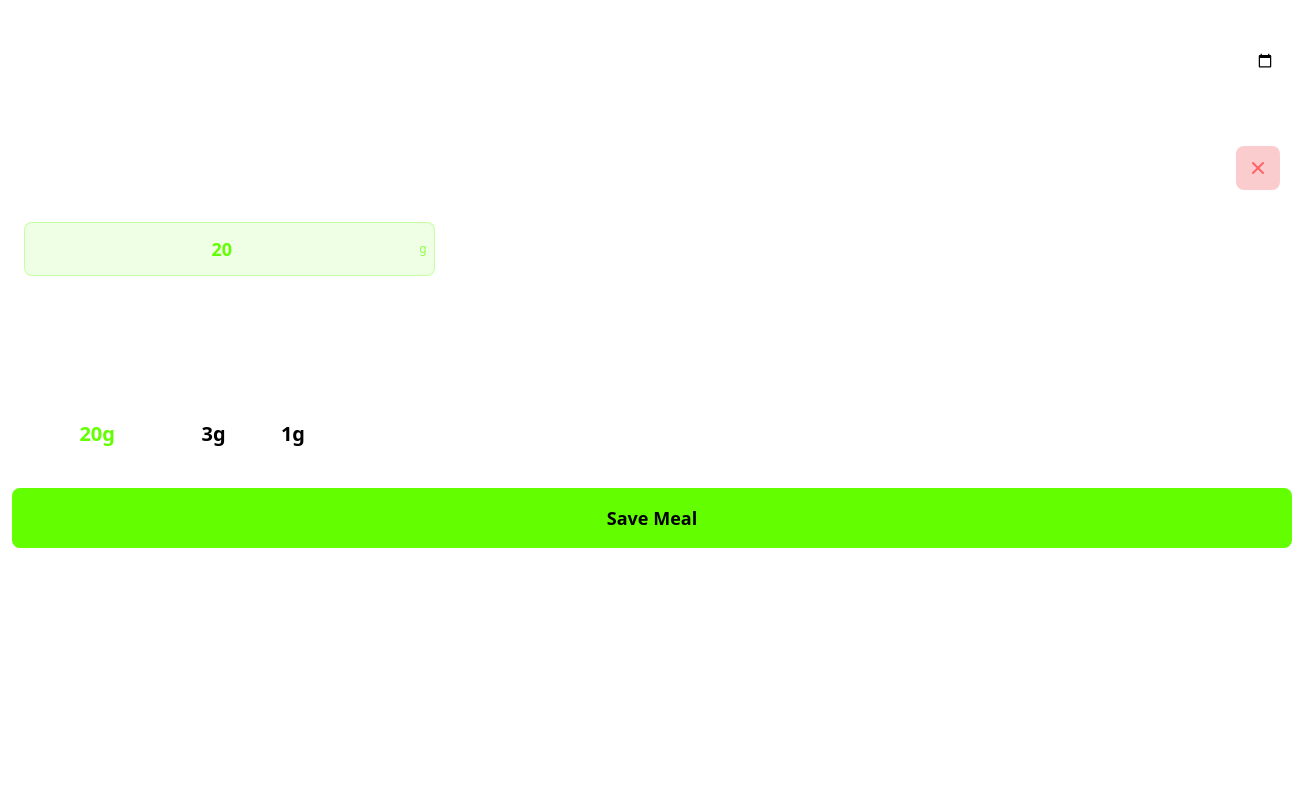
MealEditor › error toast on save failure › shows error toast with Irish English text on save failure
Step 1. Click the button "Save Meal" → (652, 518), box [12,488,1292,548]
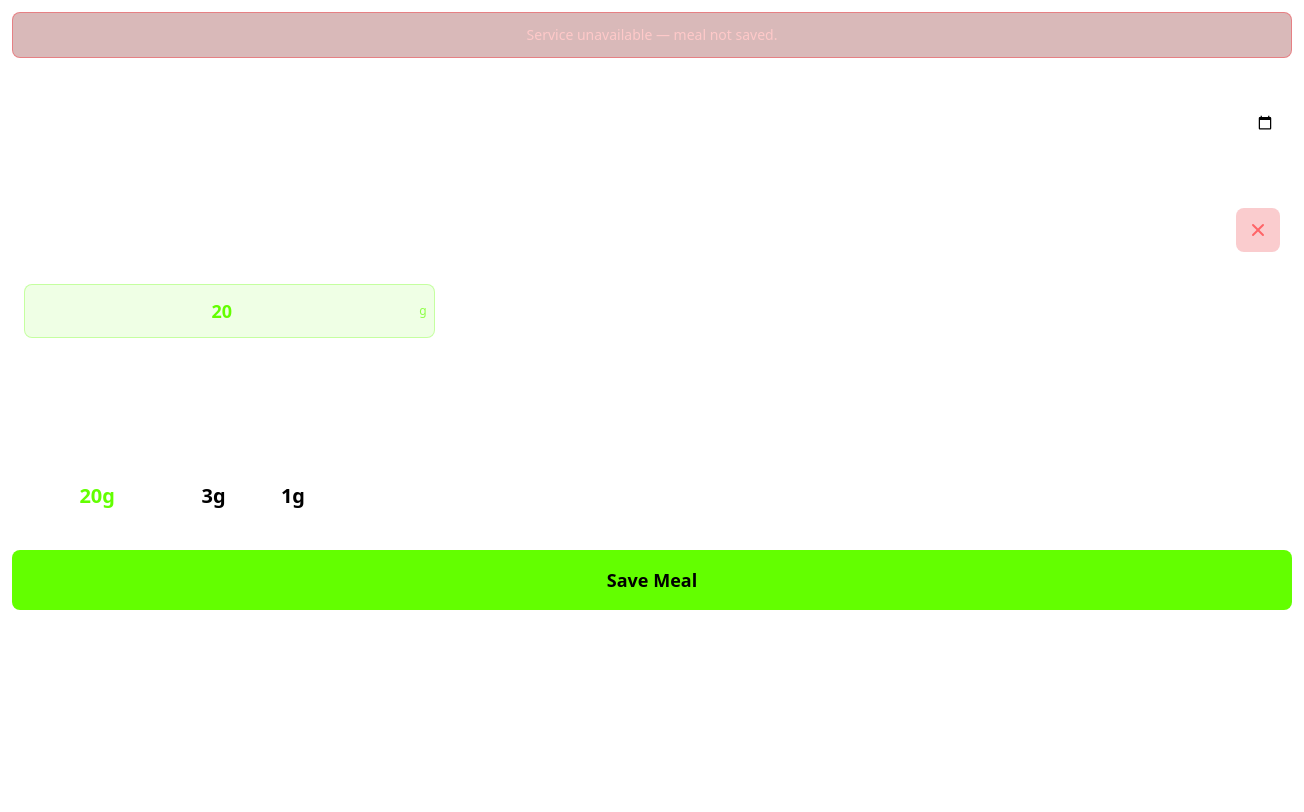
Check: the message "Service unavailable — meal not saved." is shown, box [12,12,1292,58]
